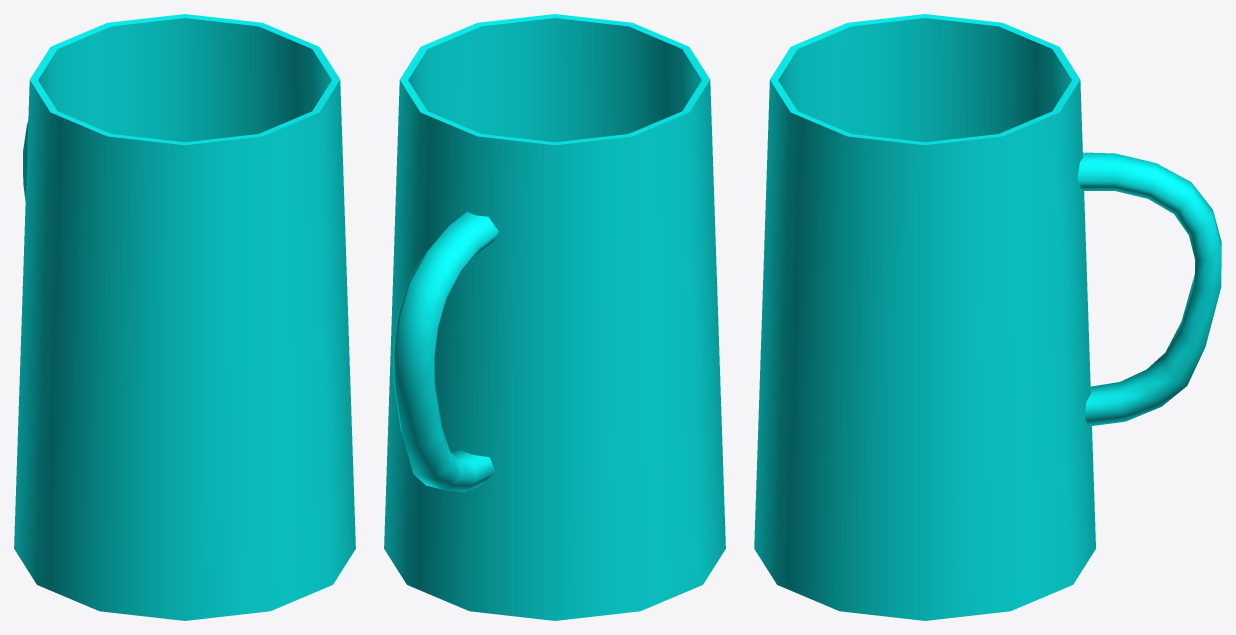
File: Beer_Mug.fbx
The picture shows the model from 3 angles, left to right: view 1: azimuth 30°, elevation 25°; view 2: azimuth 150°, elevation 25°; view 3: azimuth 270°, elevation 25°; orthographic projection.
Parts seen in each view (by area): view 1: BeerMug; view 2: BeerMug; view 3: BeerMug.
Boxes of the visible parts, <box> form: BeerMug: <box>14,14,355,620</box>; BeerMug: <box>384,14,725,620</box>; BeerMug: <box>754,14,1221,620</box>.
Size of the model in its own units: 16.51 by 25 by 22.58.
